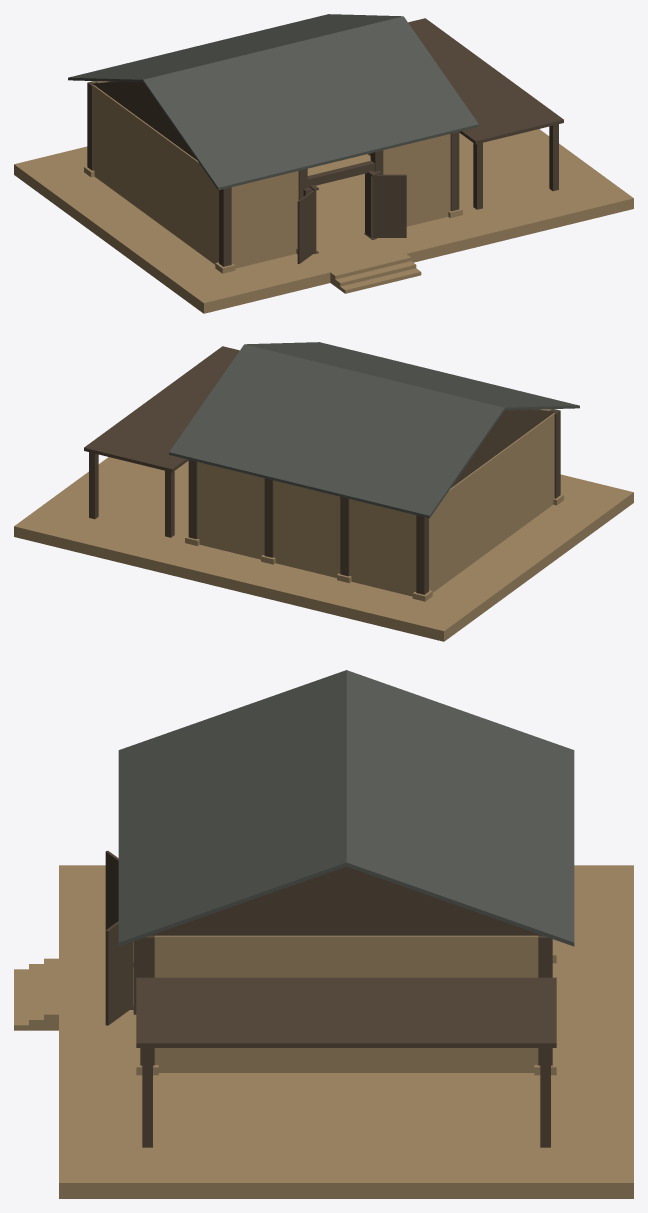
The model's file is wuku-B-LOD2.glb.
3 views of the same model, one above another, from view 1: azimuth 30°, elevation 25°; view 2: azimuth 150°, elevation 25°; view 3: azimuth 270°, elevation 25° (orthographic). The views are drawn at different scales.
Parts seen in each view (by area): view 1: wuku-B-static_earth, wuku-B-static_tile, wuku-B-static_timber; view 2: wuku-B-static_earth, wuku-B-static_tile, wuku-B-static_timber; view 3: wuku-B-static_earth, wuku-B-static_tile, wuku-B-static_timber.
Boxes of the visible parts, x1=… form: wuku-B-static_earth: x1=14, y1=81, x2=633, y2=313; wuku-B-static_tile: x1=68, y1=14, x2=478, y2=190; wuku-B-static_timber: x1=87, y1=18, x2=563, y2=266; wuku-B-static_earth: x1=14, y1=409, x2=633, y2=641; wuku-B-static_tile: x1=169, y1=342, x2=579, y2=518; wuku-B-static_timber: x1=84, y1=346, x2=560, y2=594; wuku-B-static_earth: x1=14, y1=865, x2=633, y2=1198; wuku-B-static_tile: x1=118, y1=670, x2=574, y2=946; wuku-B-static_timber: x1=105, y1=850, x2=556, y2=1147.
Size of the model in its own units: 17 by 5.9 by 14.02.
